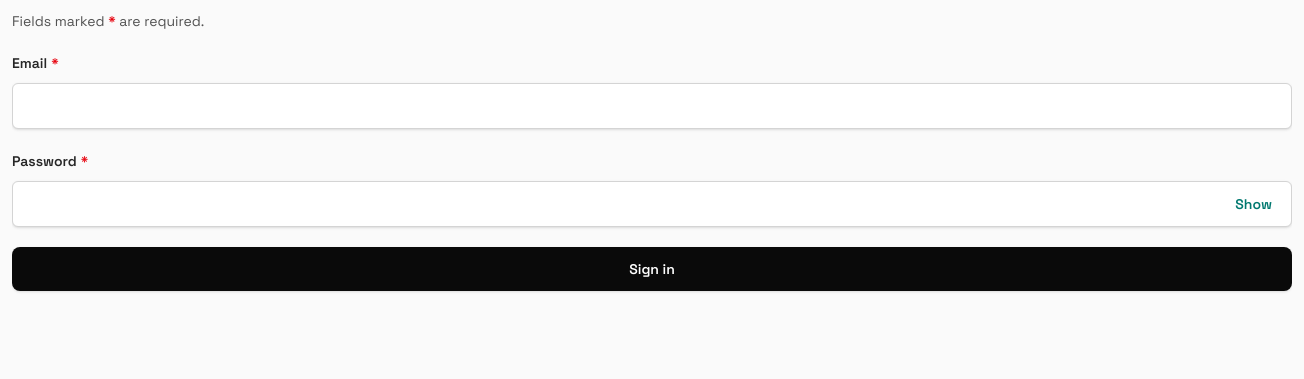
Test case: LoginForm › shows and focuses a form-level error summary on a failed submission
Type "reviewer@simpleinvoice.test" into the field labelled "Email" at [652, 106], box top-left (12, 83), bottom-right (1292, 129)
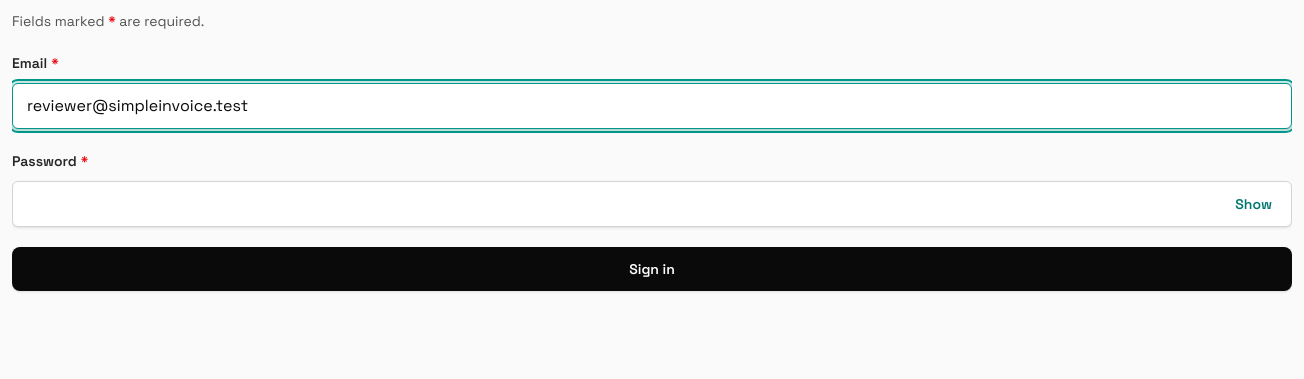
Type "wrong-password" into the password field labelled "Password" at [652, 204], box top-left (12, 181), bottom-right (1292, 227)
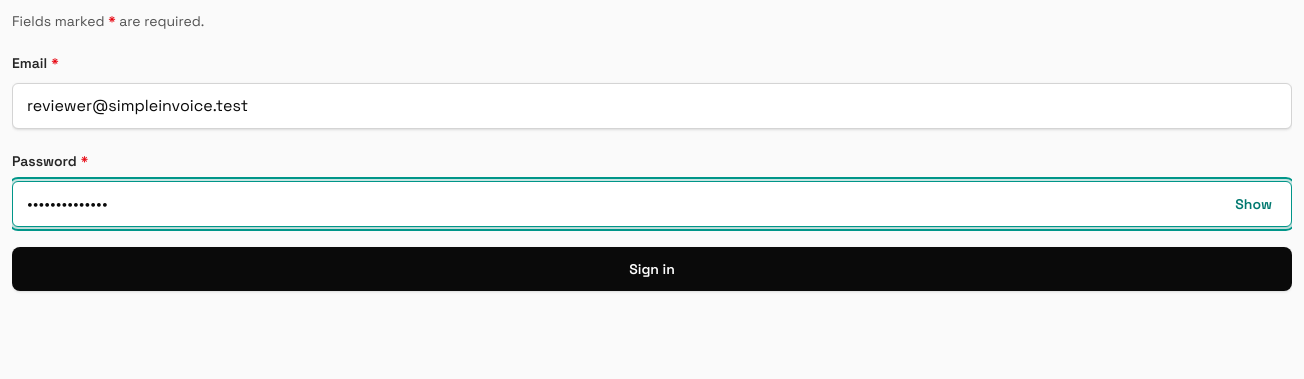
Click the button "Sign in" at [652, 269], box top-left (12, 247), bottom-right (1292, 291)
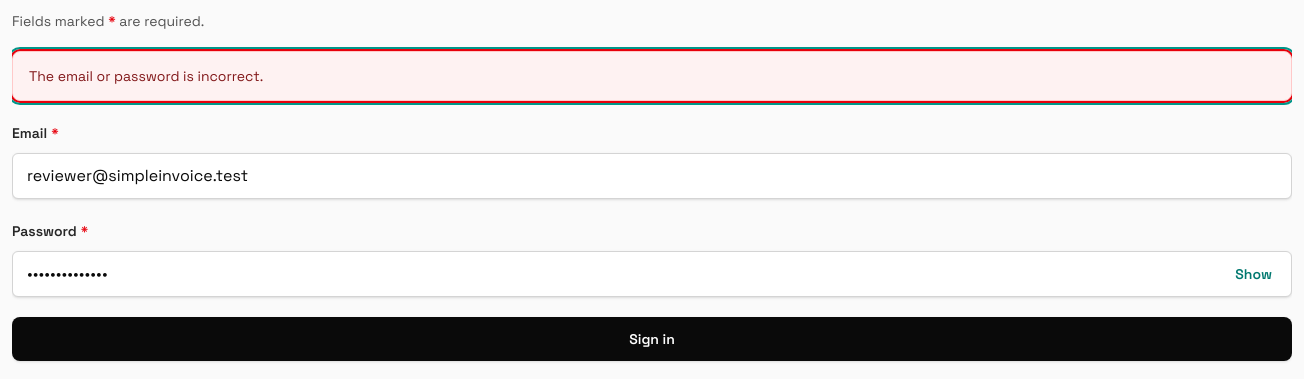
Now the message reads "The email or password is incorrect.", box top-left (29, 67), bottom-right (263, 85)
